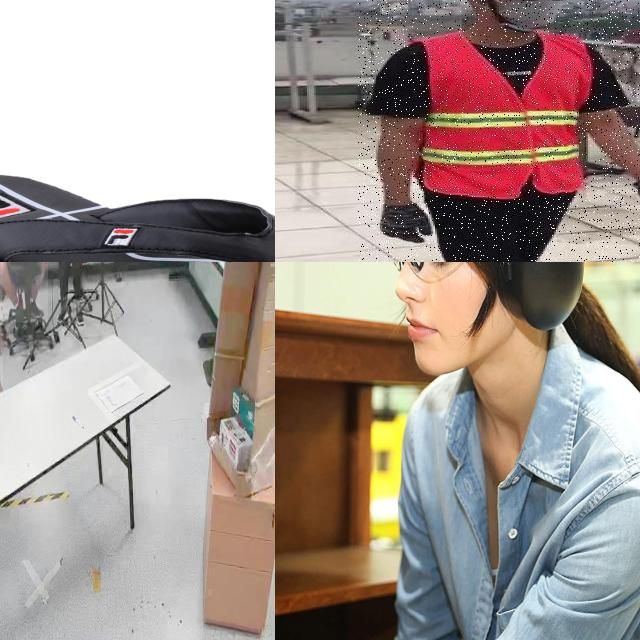Ear-protection: (496, 262, 586, 332)
Sandals: (0, 170, 275, 262)
glasses: (380, 262, 466, 284)
person: (358, 0, 640, 262), (0, 262, 48, 323), (57, 262, 93, 317)
shoes: (23, 291, 45, 324)
vest: (412, 34, 586, 197)
